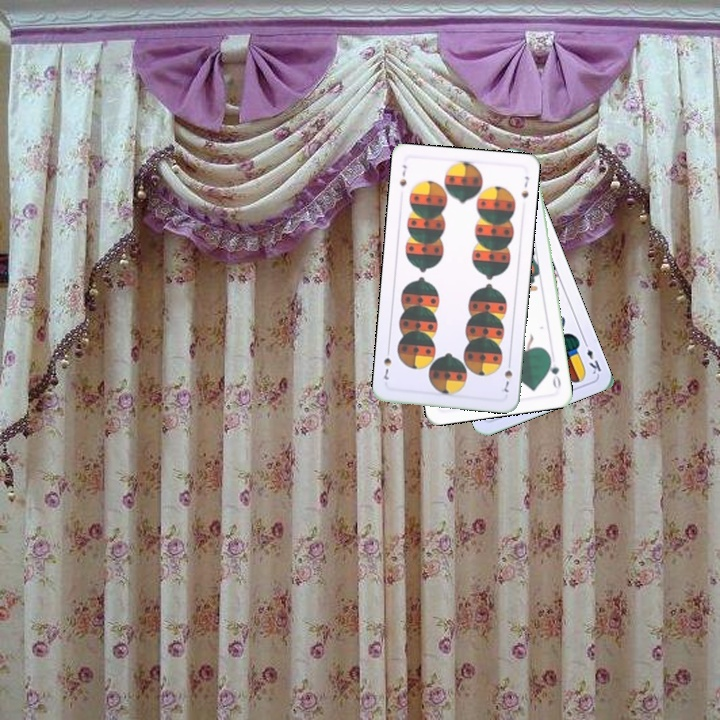EK: (580, 337, 604, 377)
GO: (544, 352, 563, 391)
S7: (500, 356, 515, 395), (396, 161, 409, 189)
